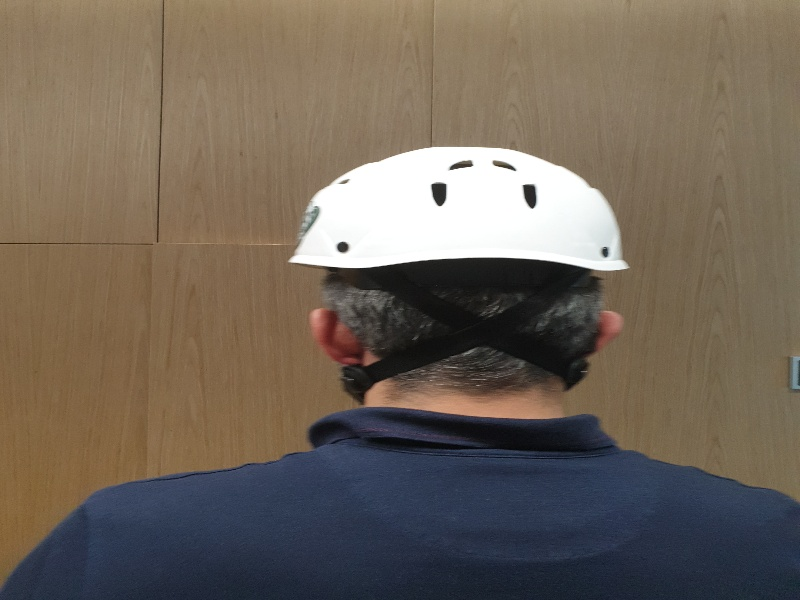Baret: (291, 146, 629, 280)
